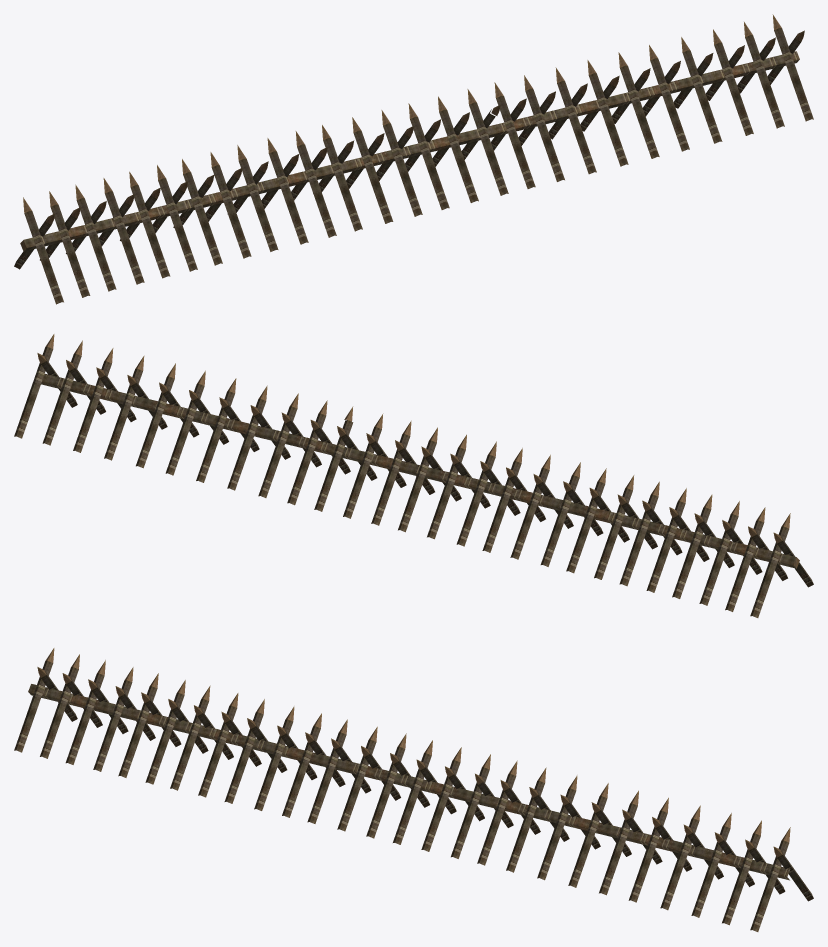
Rendered from barricade_06.glb.
The picture shows the model from 3 angles, top to bottom: view 1: azimuth 30°, elevation 25°; view 2: azimuth 150°, elevation 25°; view 3: azimuth 330°, elevation 25°; orthographic projection.
Visible parts, largest first — view 1: res\artifact\guild\barricade\barricade_06.bsr; view 2: res\artifact\guild\barricade\barricade_06.bsr; view 3: res\artifact\guild\barricade\barricade_06.bsr.
Boxes of the visible parts, <box> form: res\artifact\guild\barricade\barricade_06.bsr: <box>14,14,813,304</box>; res\artifact\guild\barricade\barricade_06.bsr: <box>14,334,813,617</box>; res\artifact\guild\barricade\barricade_06.bsr: <box>14,648,813,931</box>.
Bounding box in the file's own units: 155 × 15.73 × 18.44.
Materials: 2 (2 with a texture image).
